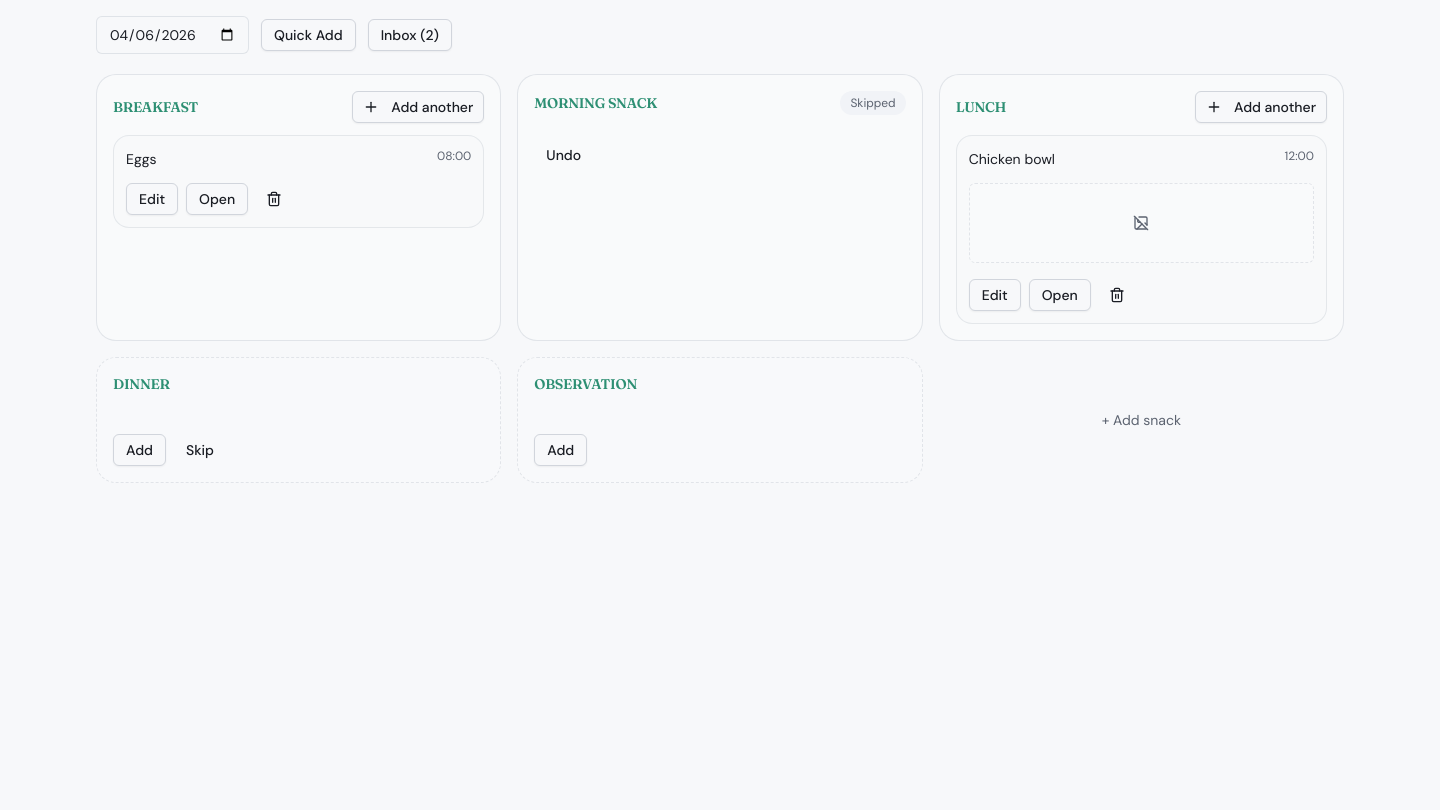
it: FoodPage › supports inline inbox deletion with a dialog confirmation and in-place refresh
What coordinates should you click on to do the following:
click the button "Inbox (2)"
I would click on:
 (410, 35)
Its box is [368,19,452,51].
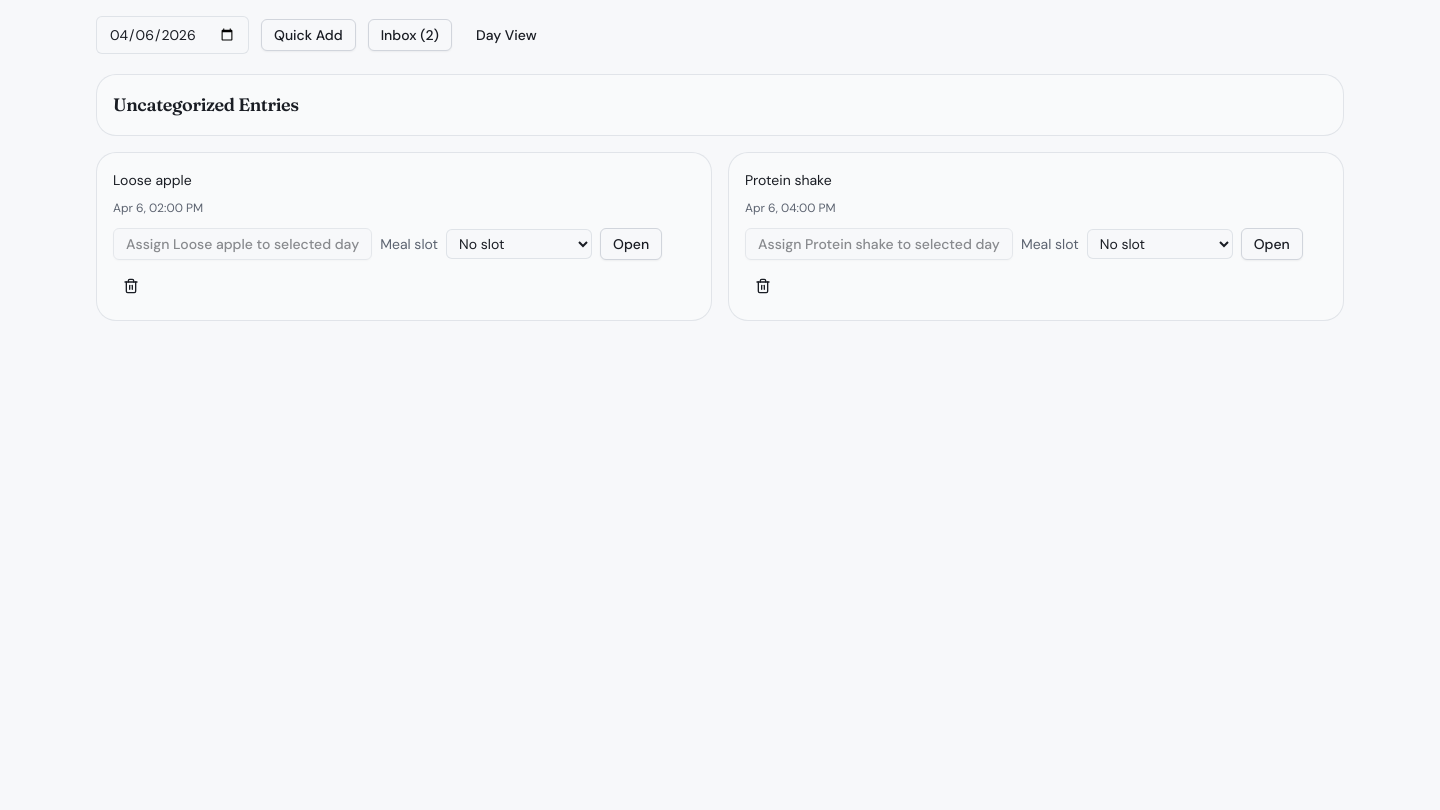
Now the heading "Uncategorized Entries" is shown, box [113,93,299,116]
What coordinates should you click on to do the following:
click the button named "delete loose apple"
I would click on:
 (131, 286)
Its box is [113,268,149,304].
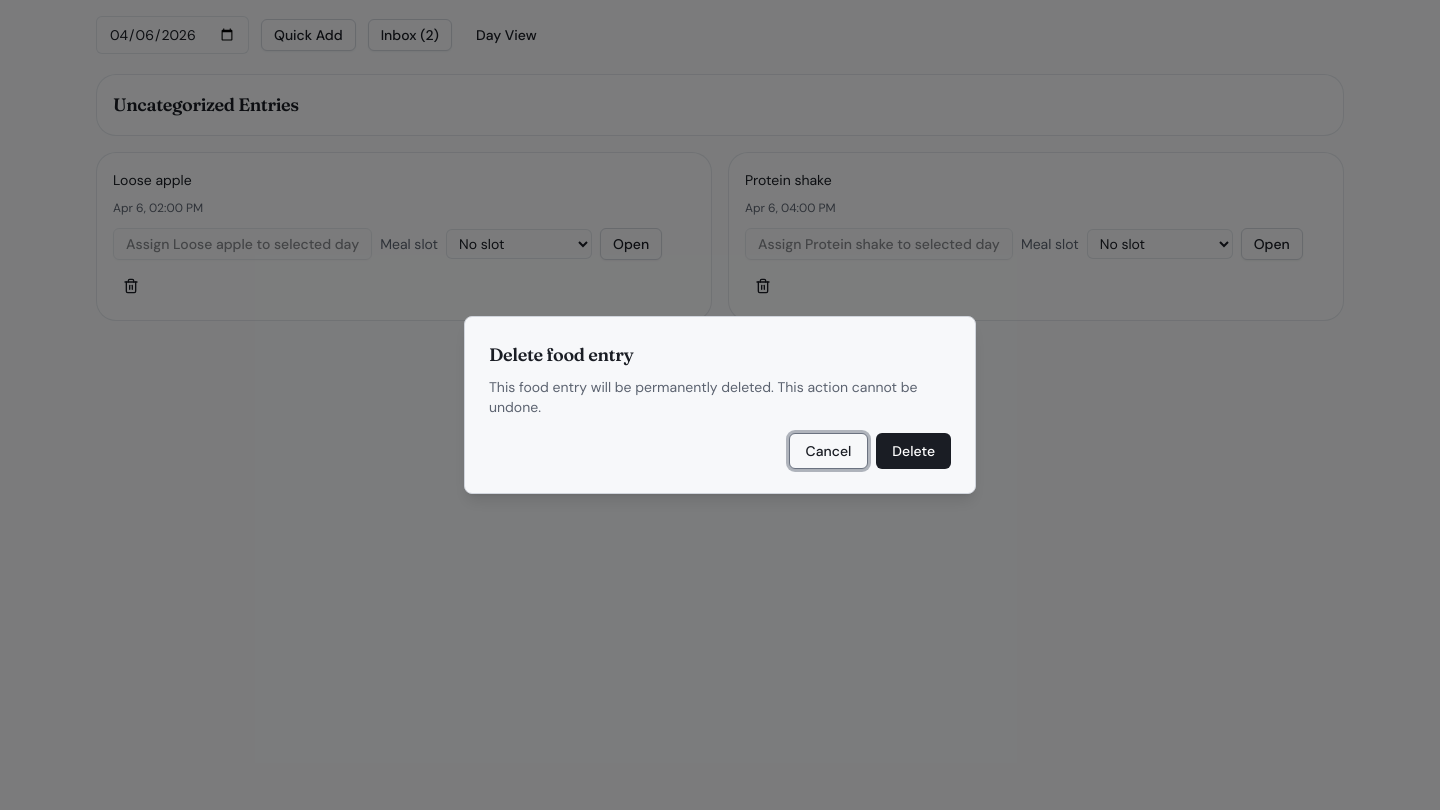
Now the dialog is shown, box [464,316,976,494]
What coordinates should you click on to do the following:
click the button "Delete"
I would click on:
 (914, 451)
Its box is [876,433,951,469].
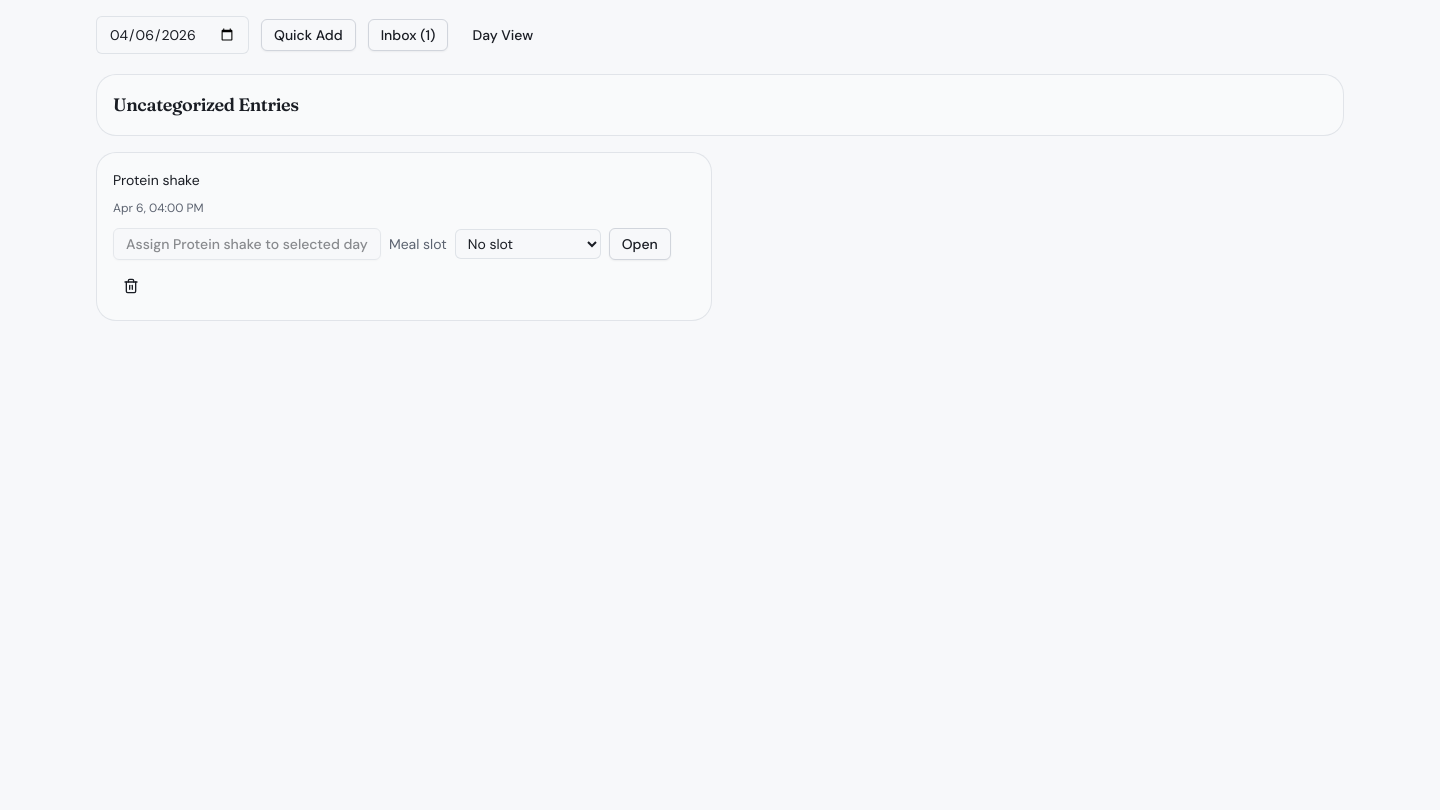
Now the button "Inbox (1)" is shown, box [368,19,448,51]
Now the text "Loose apple" is gone
